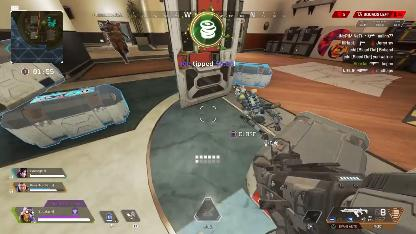Target: (100, 20, 132, 62)
